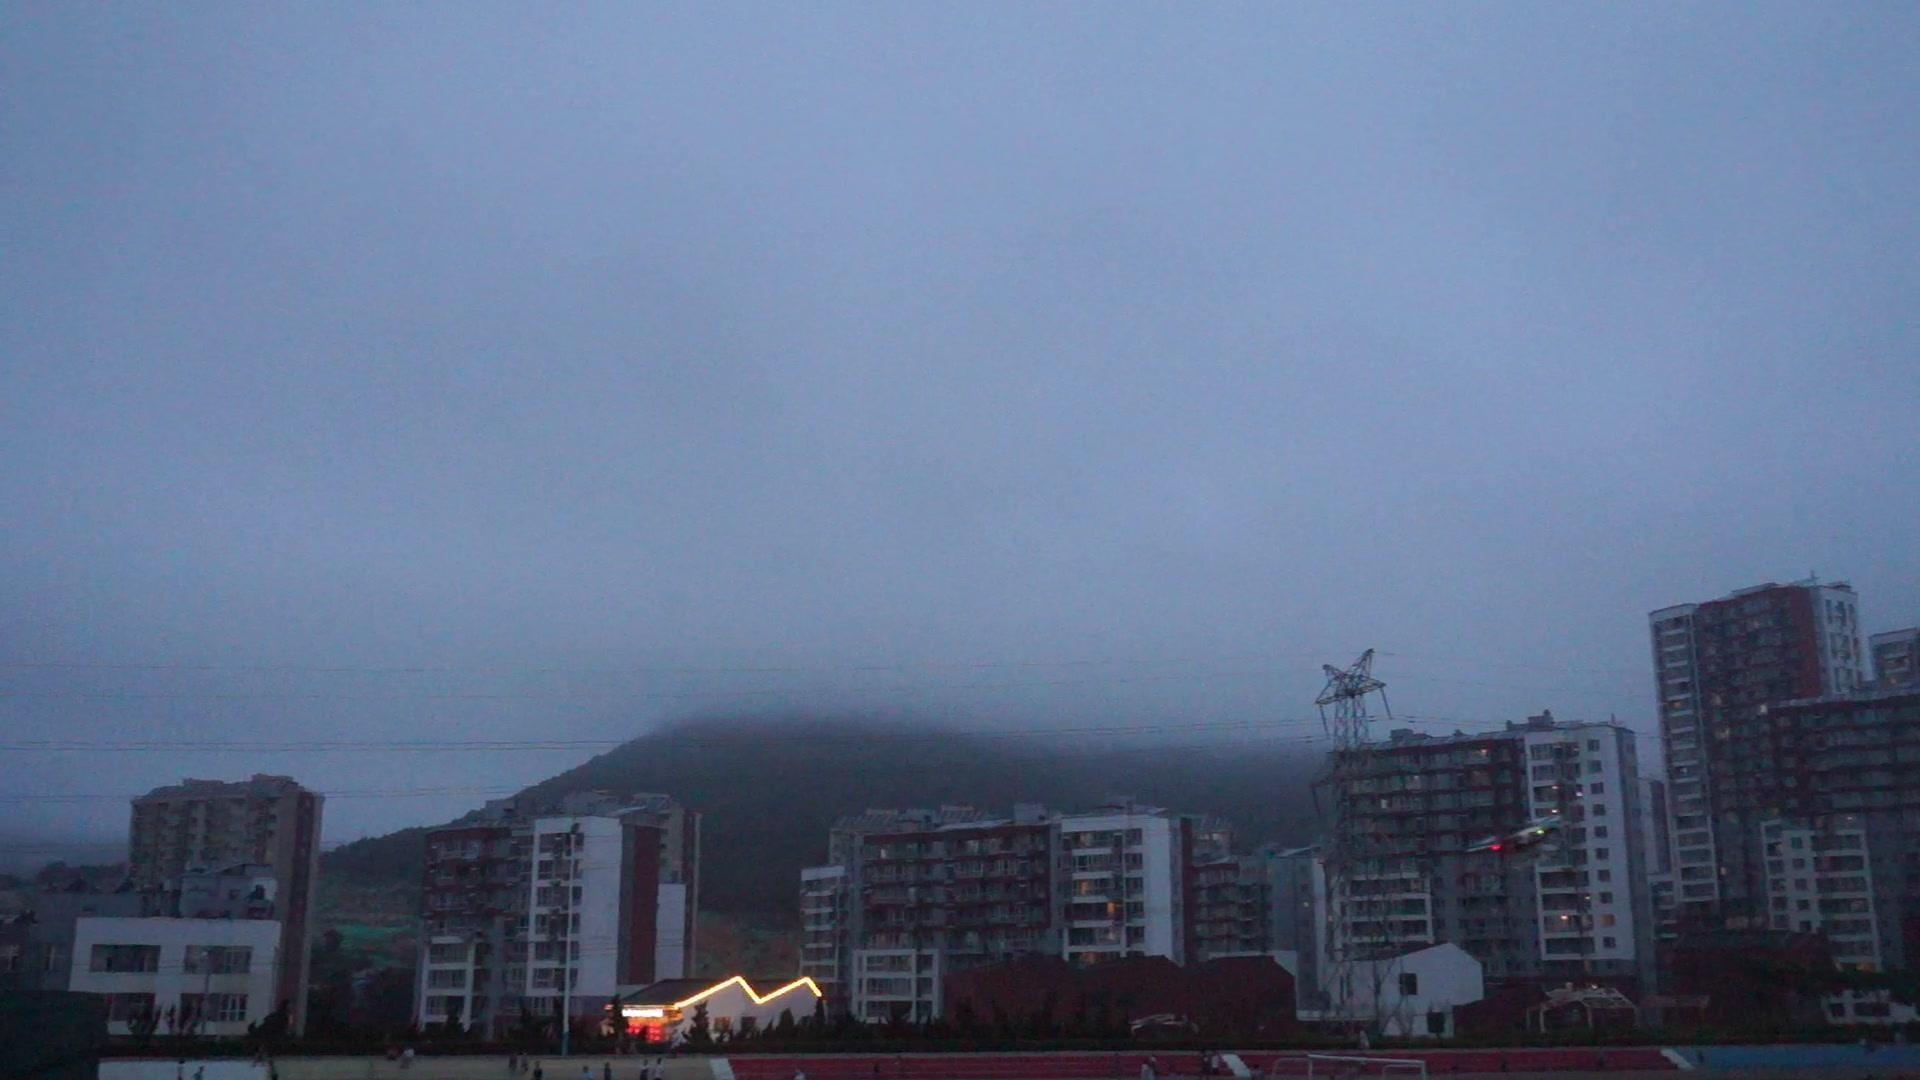UAV: (1462, 815, 1563, 853)
